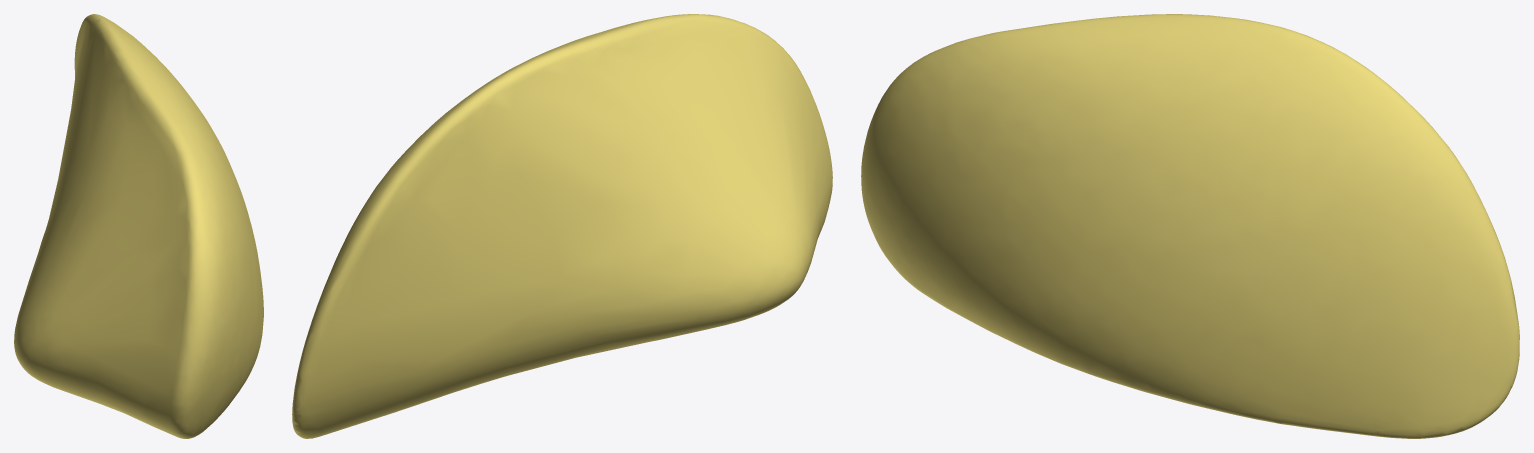
File: globus-pallidus-l.glb
3 renders of one model, left to right at view 1: azimuth 30°, elevation 25°; view 2: azimuth 150°, elevation 25°; view 3: azimuth 270°, elevation 25°, orthographic. The views are drawn at different scales.
Parts seen in each view (by area): view 1: Globus pallidus.l; view 2: Globus pallidus.l; view 3: Globus pallidus.l.
Boxes of the visible parts, left/top/right/bottom form: Globus pallidus.l: left=14, top=14, right=263, bottom=438; Globus pallidus.l: left=292, top=14, right=832, bottom=438; Globus pallidus.l: left=861, top=14, right=1519, bottom=438.
Size of the model in its own units: 0.0162 by 0.0168 by 0.0284.
